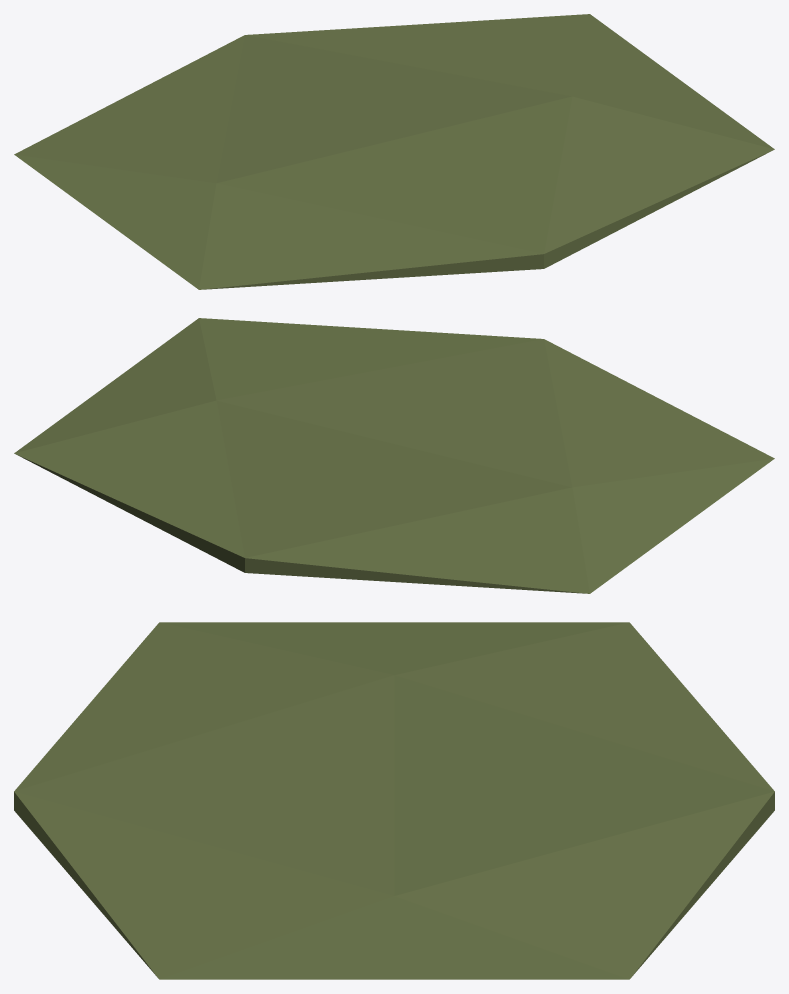
File: green_plain-far.glb
The picture shows the model from 3 angles, top to bottom: view 1: azimuth 30°, elevation 25°; view 2: azimuth 150°, elevation 25°; view 3: azimuth 270°, elevation 25°; orthographic projection. The views are drawn at different scales.
Visible parts, largest first — view 1: world-scenery/green_plain-far; view 2: world-scenery/green_plain-far; view 3: world-scenery/green_plain-far.
Part boxes in pixels (left/top/right/bottom): world-scenery/green_plain-far: left=14, top=14, right=774, bottom=289; world-scenery/green_plain-far: left=14, top=318, right=774, bottom=593; world-scenery/green_plain-far: left=14, top=622, right=774, bottom=979.
Size of the model in its own units: 5.1 by 0.2042 by 4.59.
